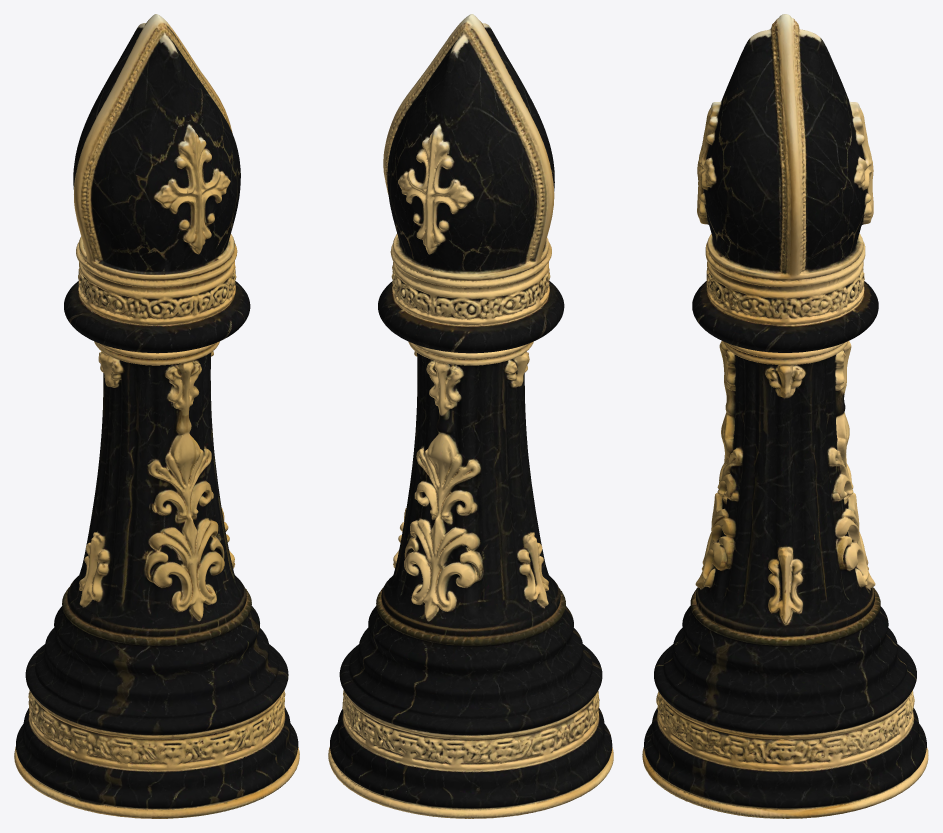
Rendered from baroque_bishop_black_opt.glb.
3 views of the same model, side by side, from view 1: azimuth 30°, elevation 25°; view 2: azimuth 150°, elevation 25°; view 3: azimuth 270°, elevation 25° (orthographic).
Size of the model in its own units: 0.6598 by 1.9 by 0.6593.
1 material, 1 textured.
